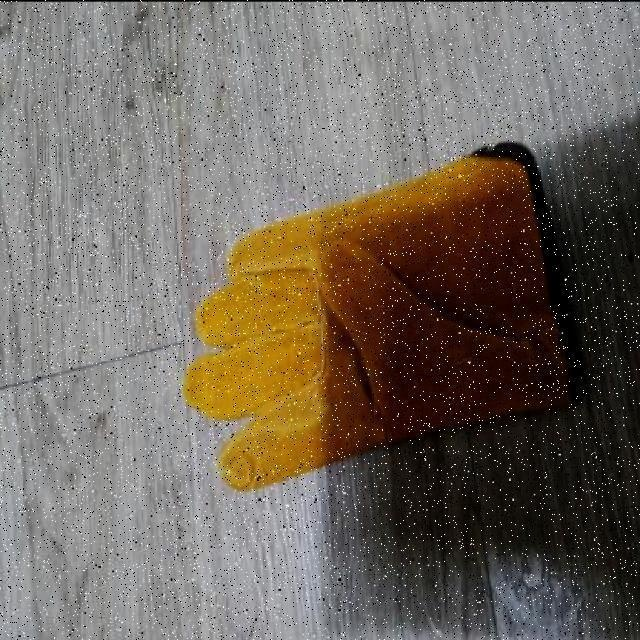Guantes: (181, 142, 573, 493)
